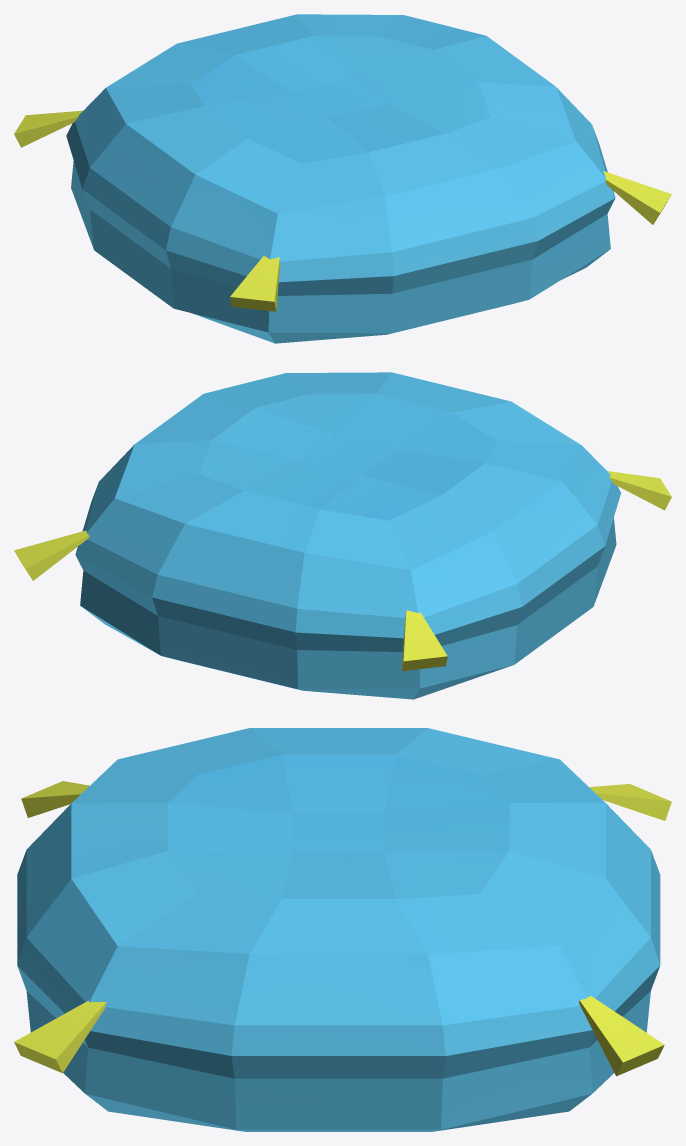
File: Prop_FloorCushion_Blue.fbx
The picture shows the model from 3 angles, top to bottom: view 1: azimuth 30°, elevation 25°; view 2: azimuth 150°, elevation 25°; view 3: azimuth 270°, elevation 25°; orthographic projection. The views are drawn at different scales.
Visible parts, largest first — view 1: FloorPillow01.001; view 2: FloorPillow01.001; view 3: FloorPillow01.001.
Boxes of the visible parts, x1,y1,x2,y2 form: FloorPillow01.001: (14,14,671,343); FloorPillow01.001: (14,372,671,699); FloorPillow01.001: (14,728,671,1131).
Bounding box in the file's own units: 61.42 × 19.27 × 61.36.
